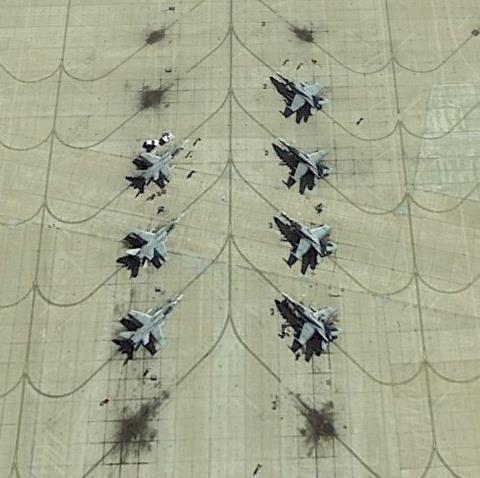F/A-18: (279, 291, 345, 354), (115, 296, 182, 355), (122, 211, 183, 274), (277, 208, 338, 268), (276, 136, 336, 193), (269, 65, 330, 118), (129, 138, 185, 193)
